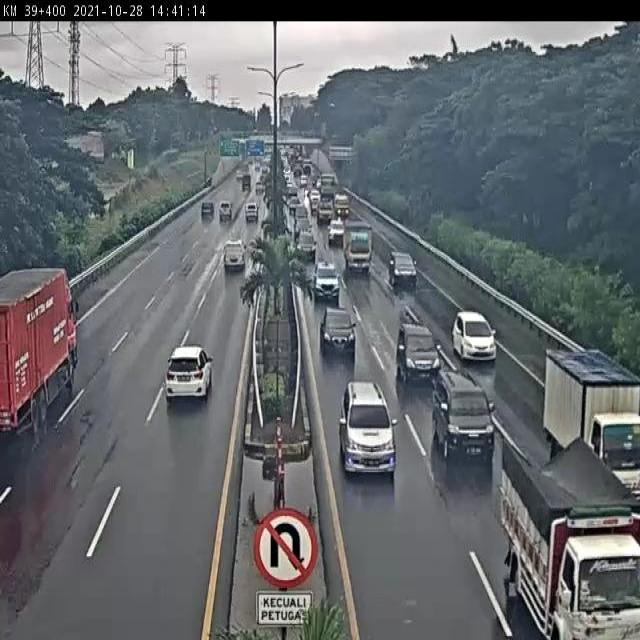car: (335, 379, 395, 477), (433, 375, 496, 468), (395, 322, 441, 378), (174, 324, 218, 377), (453, 312, 498, 361), (320, 305, 358, 359), (389, 252, 419, 289), (313, 264, 341, 301), (225, 233, 247, 260), (296, 232, 316, 261)
mid truck: (0, 258, 88, 418)
truck-m-: (344, 224, 374, 276)
truck-s-: (544, 347, 640, 516)
